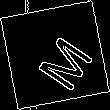M_NW: (21, 21, 89, 89)
